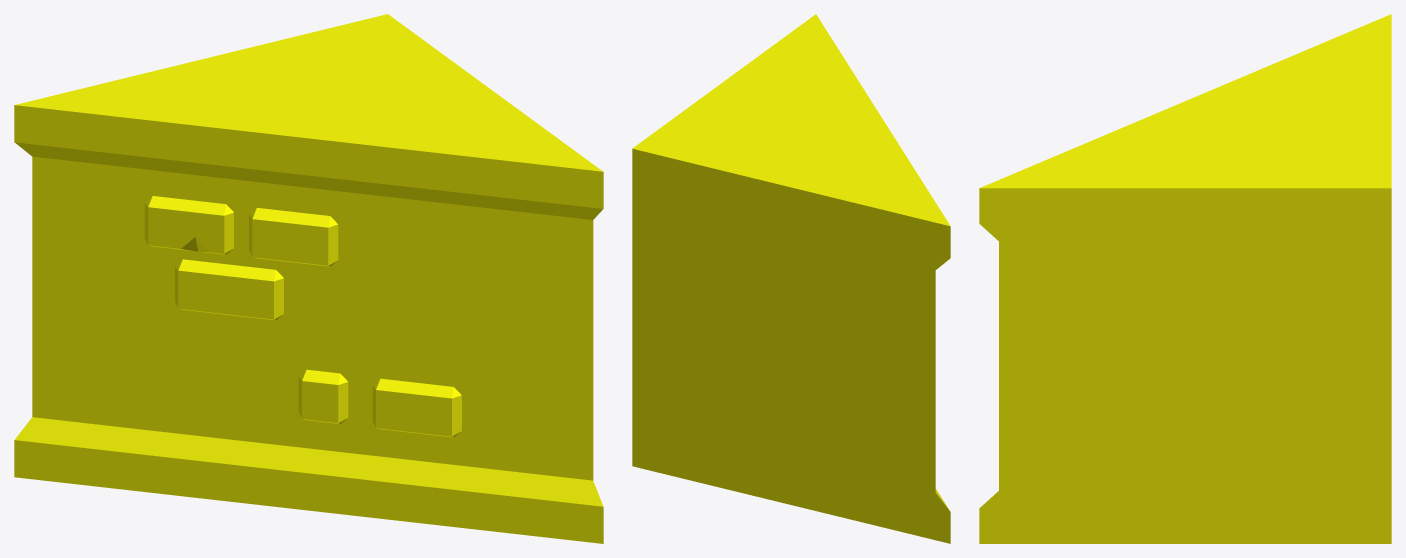
Rendered from kaykit-floor-foundation-diagonal-corner.glb.
3 views of the same model, side by side, from view 1: azimuth 30°, elevation 25°; view 2: azimuth 150°, elevation 25°; view 3: azimuth 270°, elevation 25° (orthographic). The views are drawn at different scales.
Parts seen in each view (by area): view 1: floor_foundation_diagonal_corner; view 2: floor_foundation_diagonal_corner; view 3: floor_foundation_diagonal_corner.
Boxes of the visible parts, x1,y1,x2,y2 form: floor_foundation_diagonal_corner: (14,14,603,543); floor_foundation_diagonal_corner: (632,14,950,543); floor_foundation_diagonal_corner: (979,14,1391,543).
Bounding box in the file's own units: 2.1 × 2 × 2.1.
